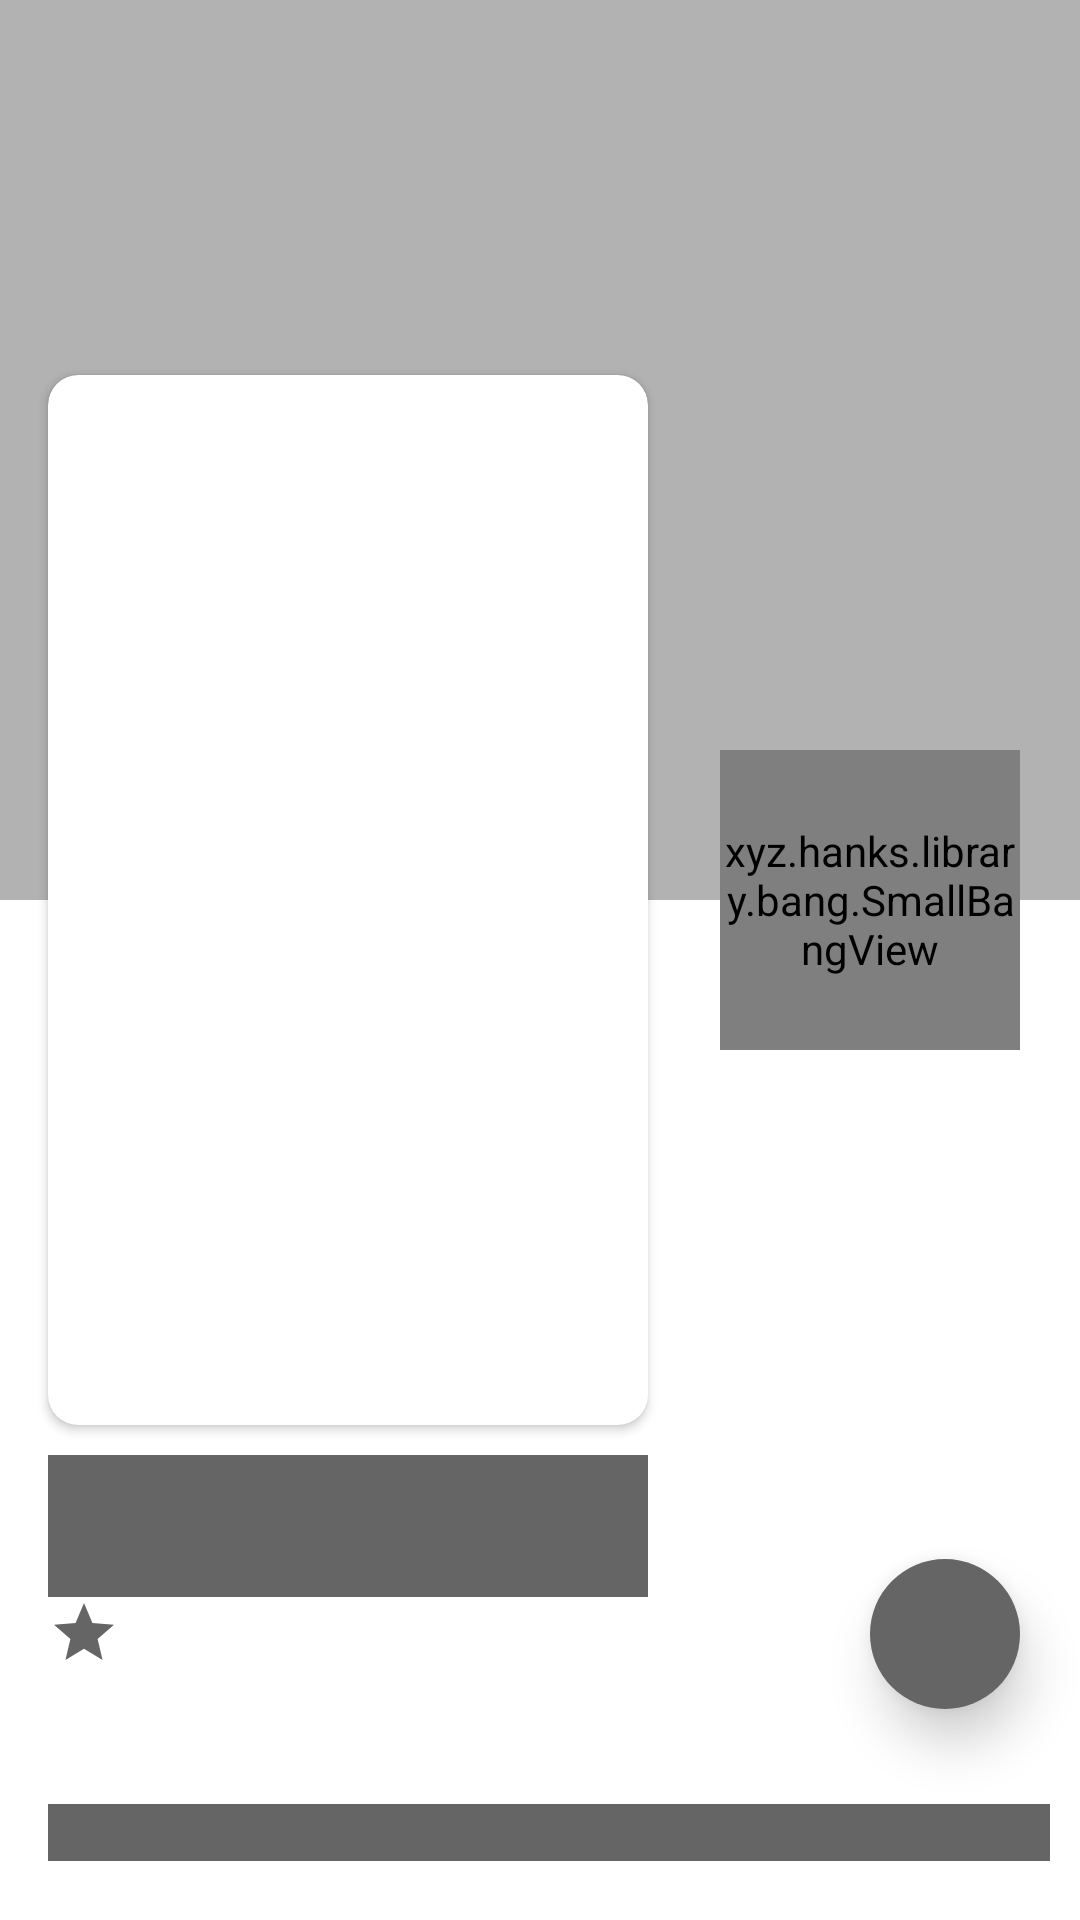

Where to tap for icons on this 1080px×1920px app screen, as point (x, y):
star: point (84, 1631)
